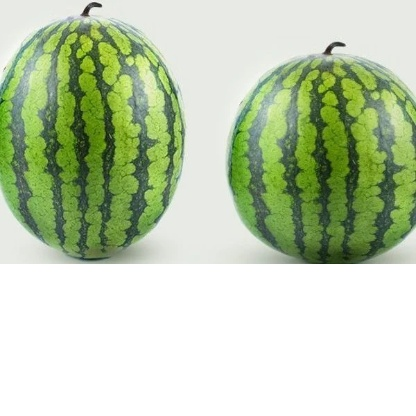duahau: (1, 11, 191, 260), (235, 25, 410, 265)
